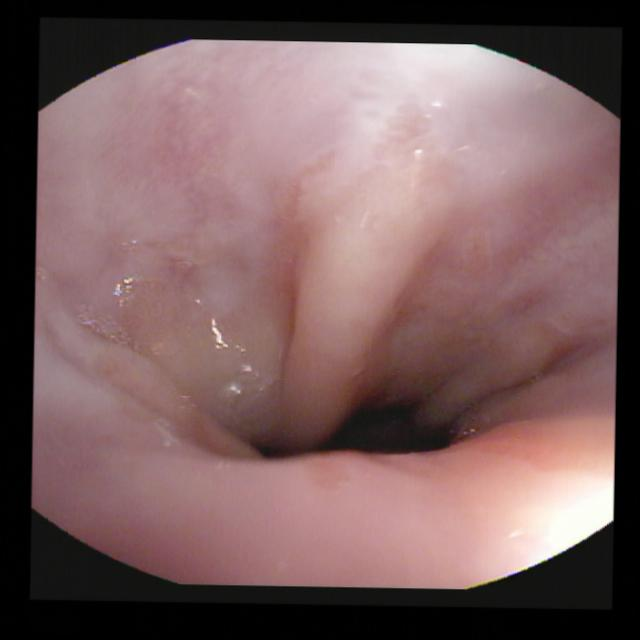Normal-Z-Line: (86, 177, 622, 501)
